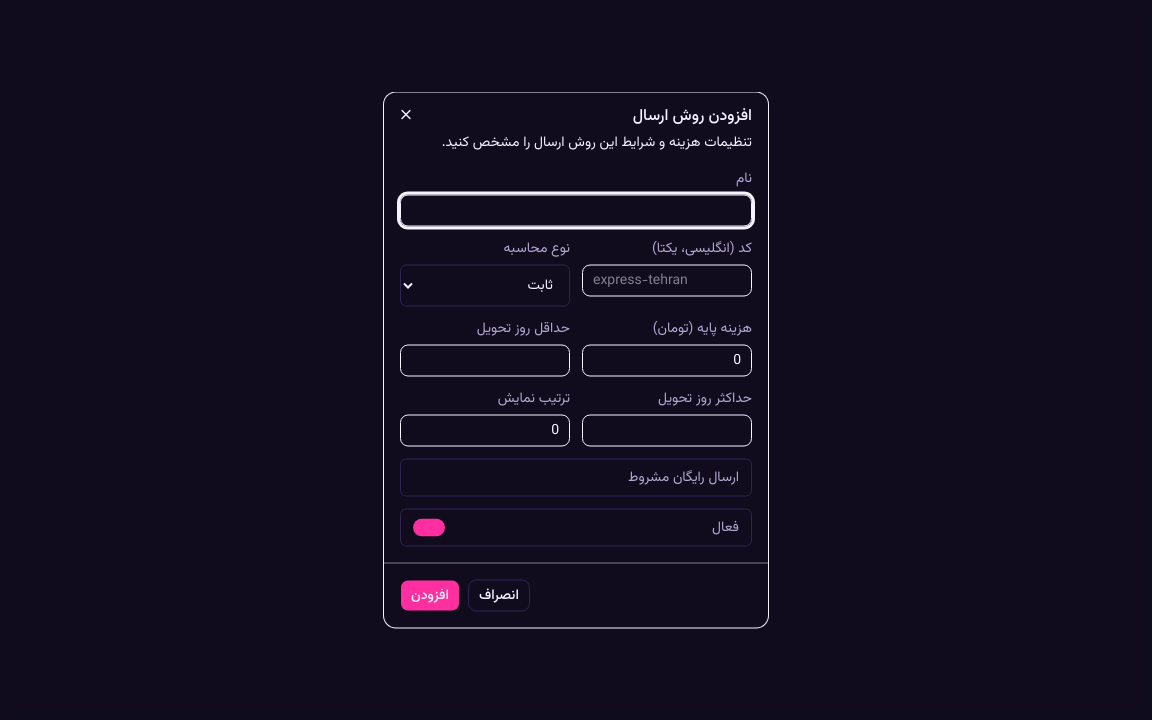
ShippingMethodFormDialog › code field security › strips invalid characters from code input
In the field with placeholder "express-tehran": (667, 280) left=582, top=264, right=752, bottom=296, type "Express Post!"
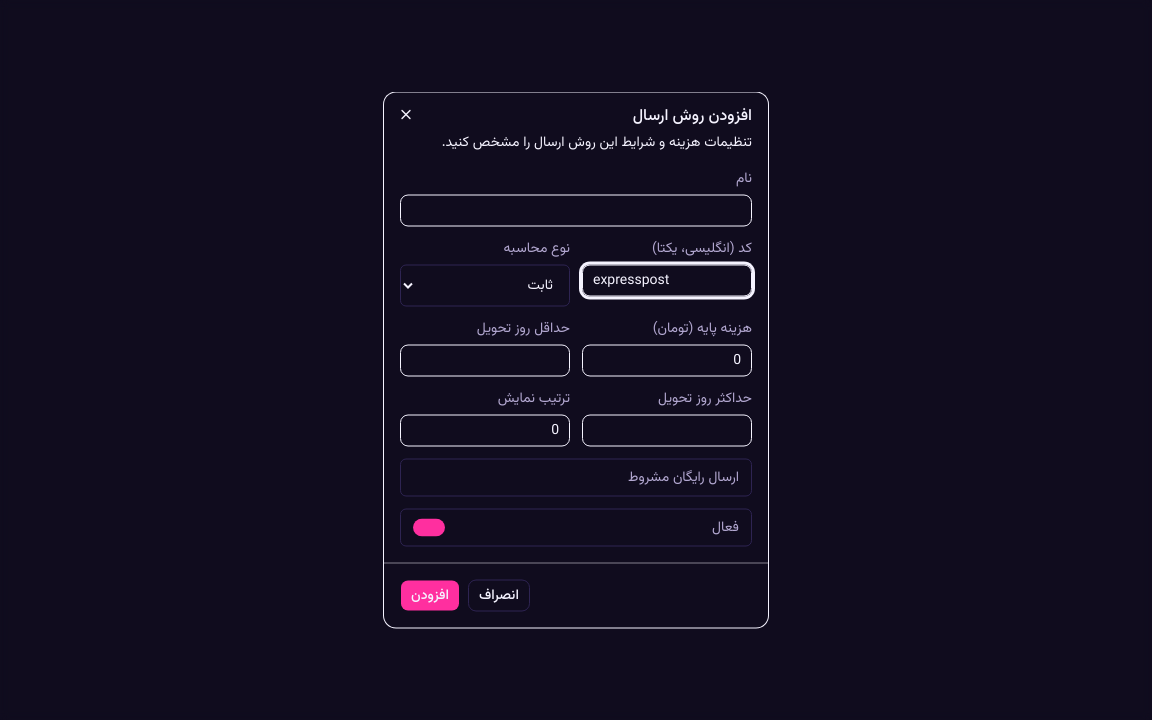
Check: the field below "کد (انگلیسی، یکتا)" holds "expresspost", box left=582, top=264, right=752, bottom=296
